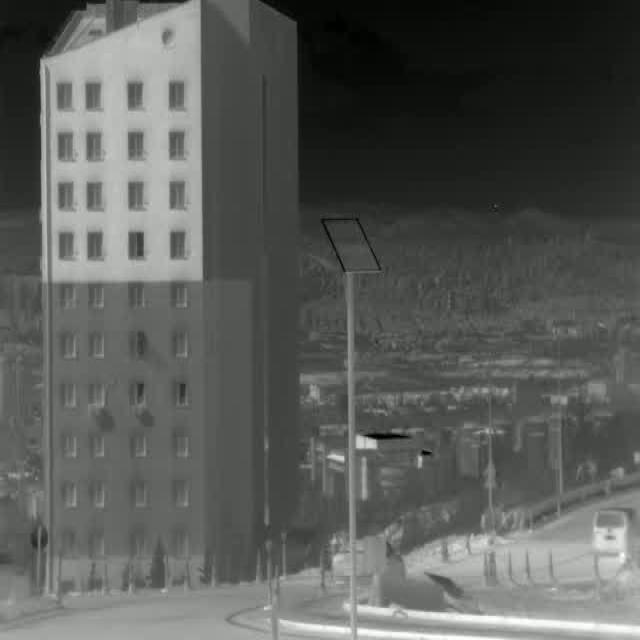Car: (332, 541, 404, 587), (590, 508, 640, 557)
